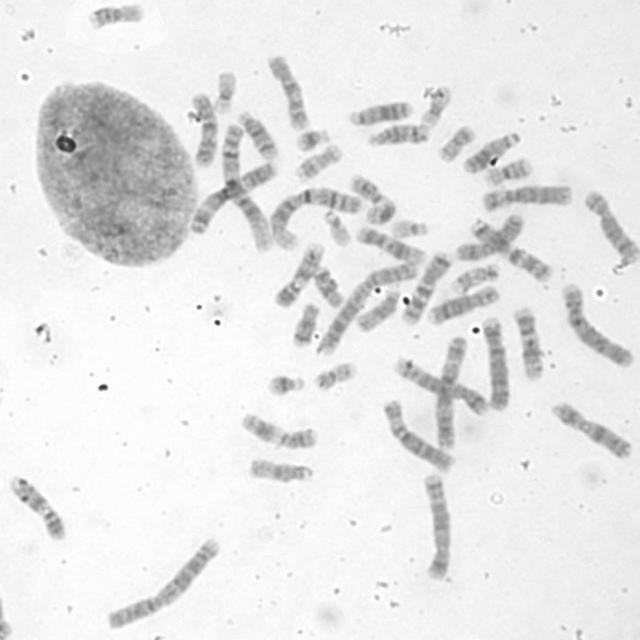A1: (218, 120, 275, 255), (267, 183, 364, 252)
A2: (101, 534, 223, 632), (314, 257, 421, 359)
A3: (186, 160, 278, 236), (431, 333, 469, 449)
B4: (559, 280, 635, 368), (478, 314, 512, 412)
B5: (390, 354, 490, 418), (419, 470, 454, 582)
C10: (263, 50, 312, 132), (187, 89, 220, 168)
C11: (237, 409, 319, 451), (346, 170, 399, 227)
C12: (352, 222, 428, 265), (509, 304, 546, 383)
C6: (378, 395, 455, 473), (478, 179, 575, 212)
C7: (467, 215, 554, 283), (400, 249, 452, 326)
C8: (582, 186, 638, 264), (424, 283, 500, 326)
C9: (6, 472, 68, 541), (272, 238, 326, 309)
D13: (459, 127, 524, 175), (345, 98, 414, 127)
D14: (234, 108, 280, 162), (364, 121, 430, 148)
D15: (353, 280, 404, 335), (244, 454, 315, 485)
E16: (85, 0, 145, 31), (482, 153, 533, 188)
E17: (290, 141, 344, 182), (448, 261, 499, 295)
E18: (310, 262, 346, 308), (289, 299, 320, 348)
F19: (417, 83, 452, 129), (210, 67, 239, 117)
F20: (435, 122, 477, 163), (312, 358, 357, 391)
G21: (264, 371, 306, 398), (292, 126, 331, 153)
G22: (321, 206, 352, 248), (388, 216, 429, 240)
X: (547, 398, 635, 461), (452, 210, 524, 263)
